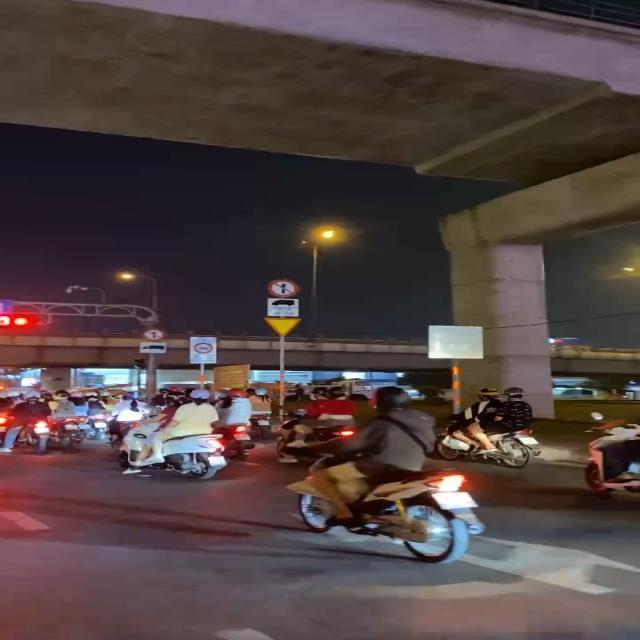136-cam-di-thang: (268, 278, 300, 296), (142, 328, 164, 342)
208-giao-nhau-voi-duong-uu-tien: (264, 318, 302, 336)
